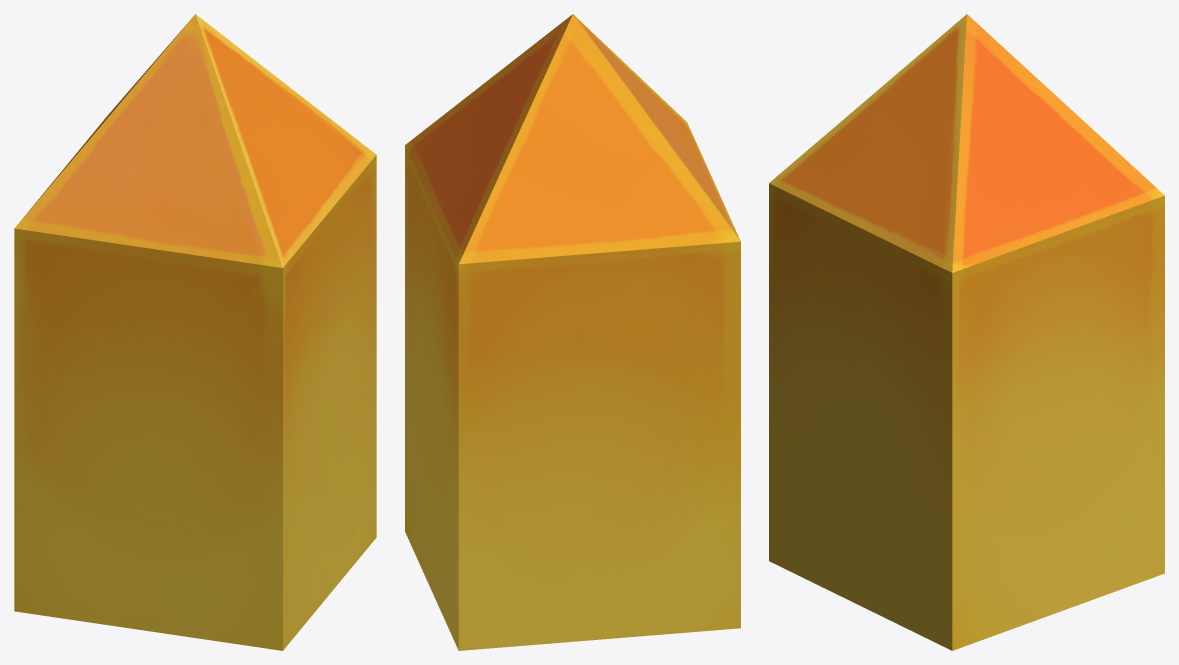
Rendered from Crystal small.fbx.
3 renders of one model, left to right at view 1: azimuth 30°, elevation 25°; view 2: azimuth 150°, elevation 25°; view 3: azimuth 270°, elevation 25°, orthographic. The views are drawn at different scales.
Visible parts, largest first — view 1: Crystal small; view 2: Crystal small; view 3: Crystal small.
Part boxes in pixels (x1=…): Crystal small: x1=14, y1=14, x2=376, y2=650; Crystal small: x1=405, y1=14, x2=740, y2=650; Crystal small: x1=769, y1=14, x2=1164, y2=650.
Size of the model in its own units: 16.74 by 25.81 by 16.74.
